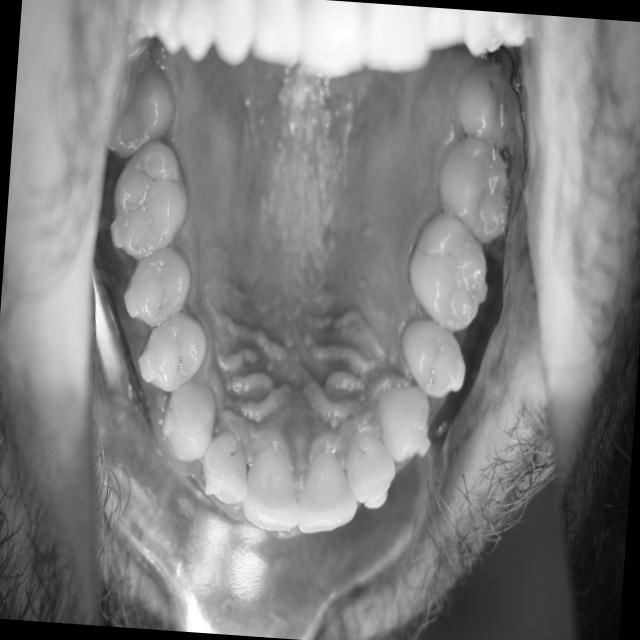tooth: (105, 127, 204, 273), (405, 203, 496, 342), (427, 124, 518, 249), (287, 437, 371, 548), (234, 431, 313, 543), (130, 300, 215, 400), (107, 61, 182, 166), (394, 304, 474, 402), (191, 416, 265, 521), (367, 368, 439, 473), (120, 240, 198, 335), (450, 58, 522, 156), (159, 362, 224, 470), (339, 423, 401, 520)
